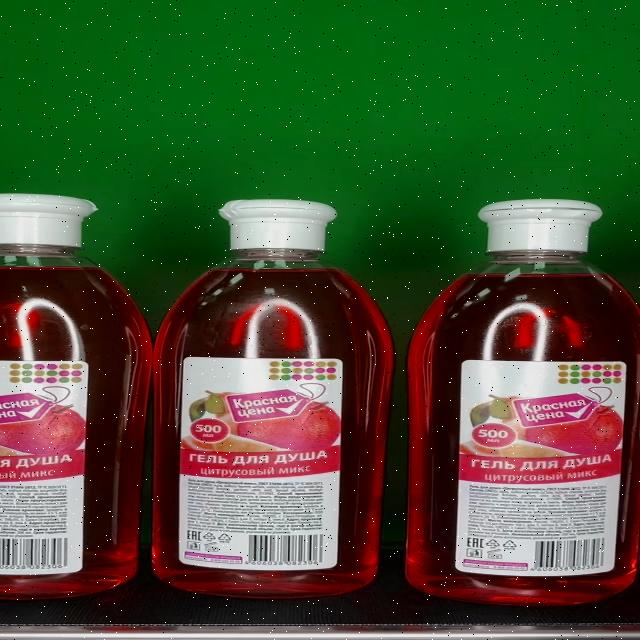Bottle: (154, 200, 394, 598), (406, 199, 640, 603)
Cap: (478, 200, 604, 252), (218, 200, 337, 250)
